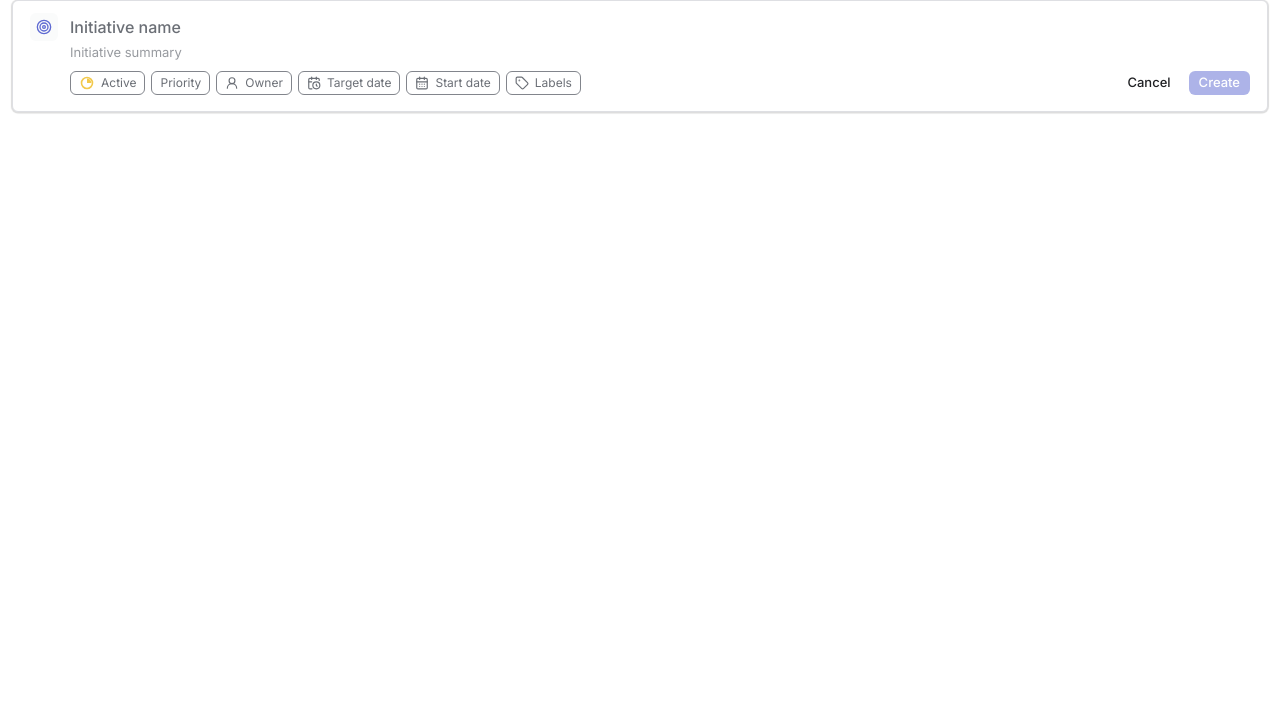
Test: InlineNewInitiative › aplica os atalhos numéricos exibidos no menu de status
Click the button with aria-label "Change status".
click(108, 83)  # box 70,71 -> 146,95
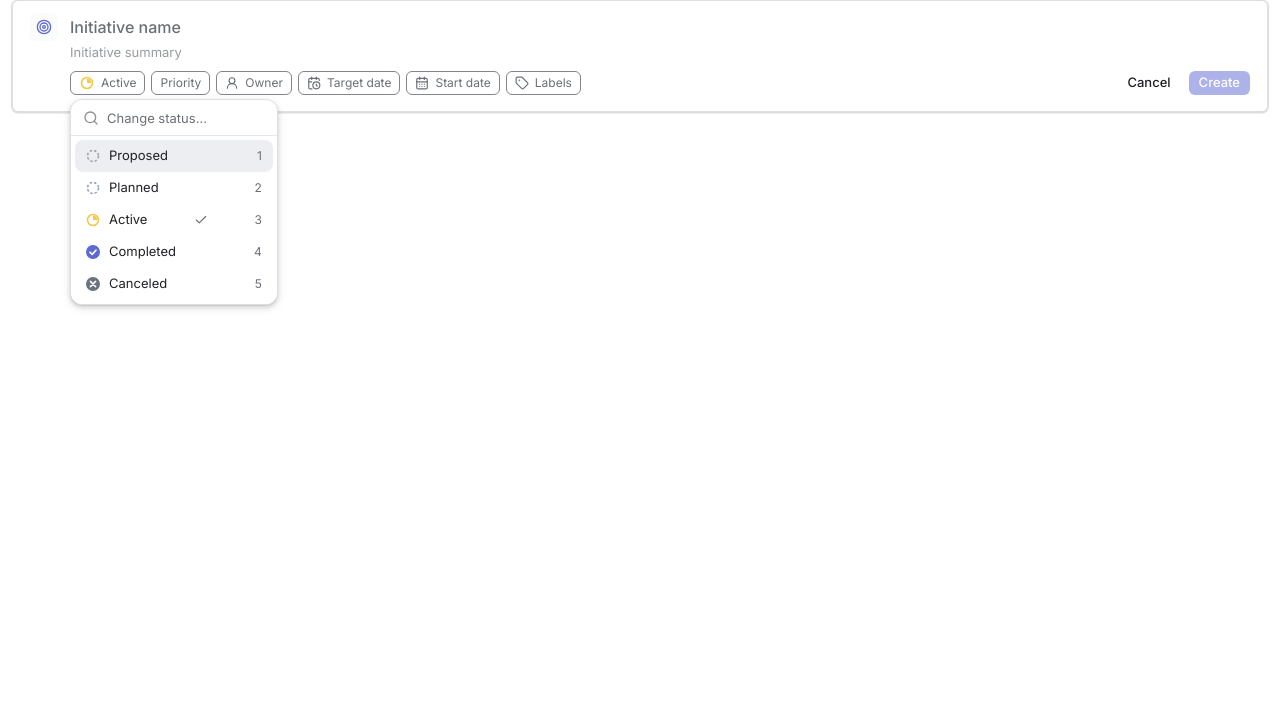
Type keys "1"
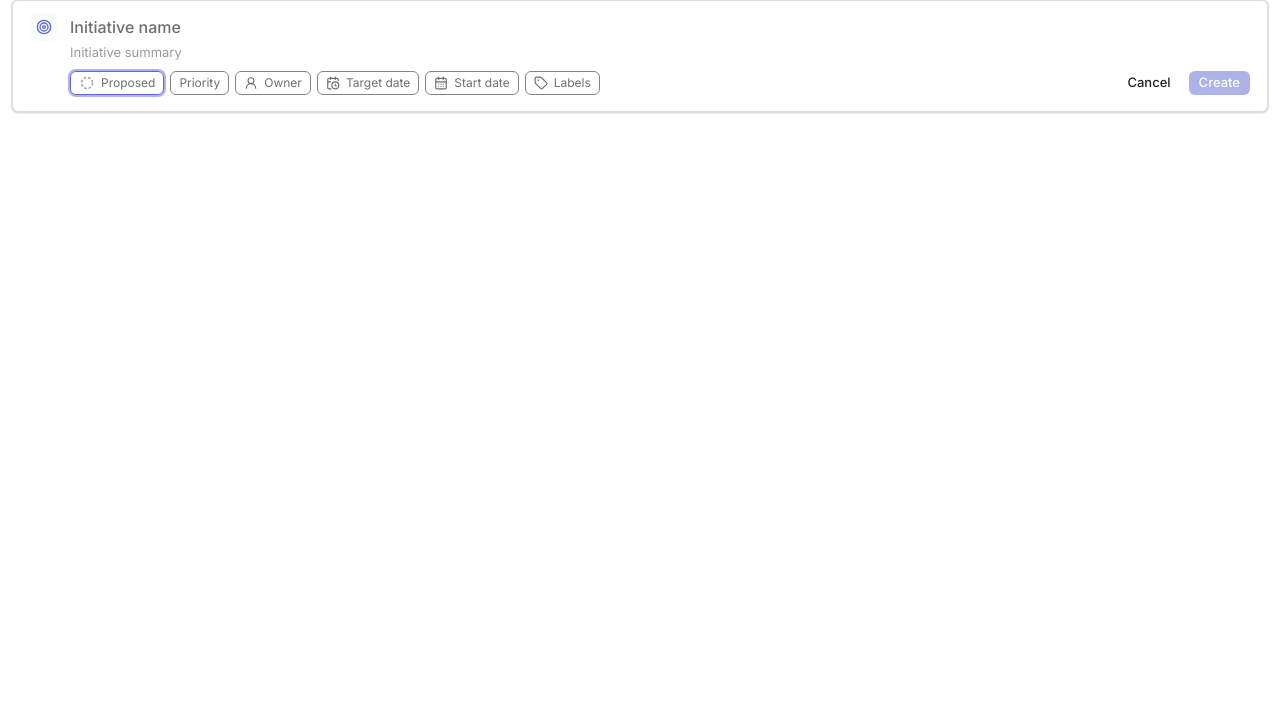
Check: the button with aria-label "Change status" reads "Proposed", box 70,71 -> 164,95
